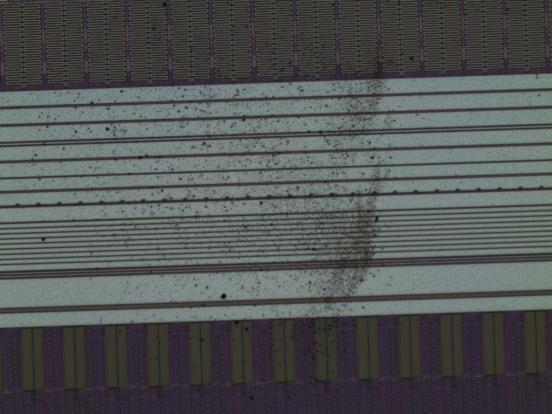PO CONTAMINATION: (10, 33, 403, 405)
